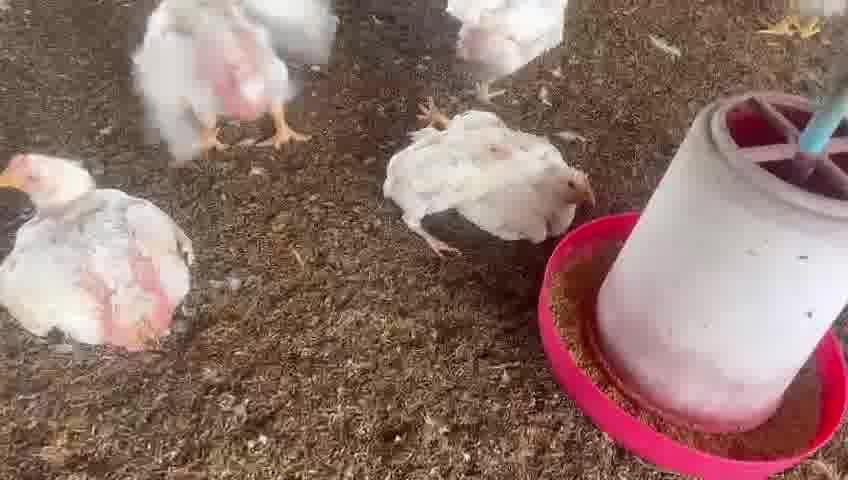AbNormal: (4, 148, 186, 351), (385, 100, 594, 249)
Normal: (128, 3, 305, 160), (445, 0, 562, 106)
